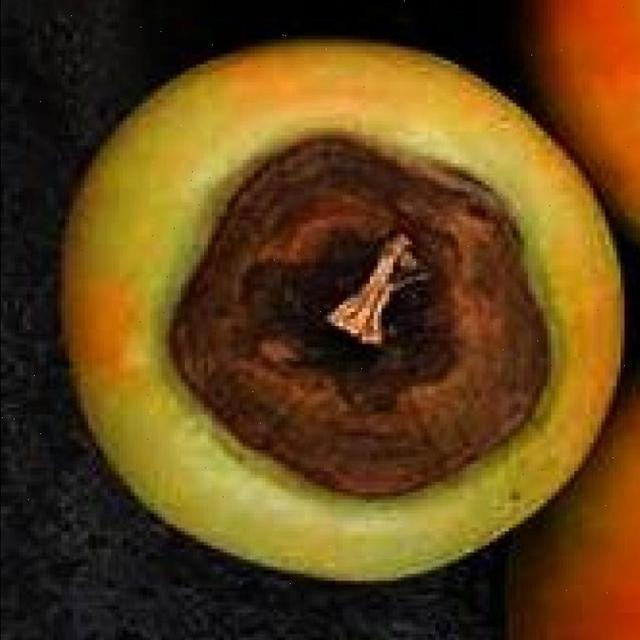Blossom End Rot Fruit: (111, 86, 373, 336)
